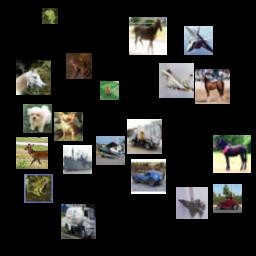airplane: (159, 63, 194, 98), (176, 187, 208, 219), (184, 26, 213, 55), (96, 136, 125, 165)
automobile: (131, 159, 166, 194), (213, 184, 242, 213)
deer: (16, 137, 48, 169)
dog: (23, 104, 52, 133), (54, 112, 83, 141), (100, 81, 119, 100)
frog: (24, 174, 53, 203), (66, 53, 92, 79), (42, 8, 58, 24)
ship: (63, 145, 92, 174)
truck: (61, 204, 96, 239), (127, 119, 162, 154)
